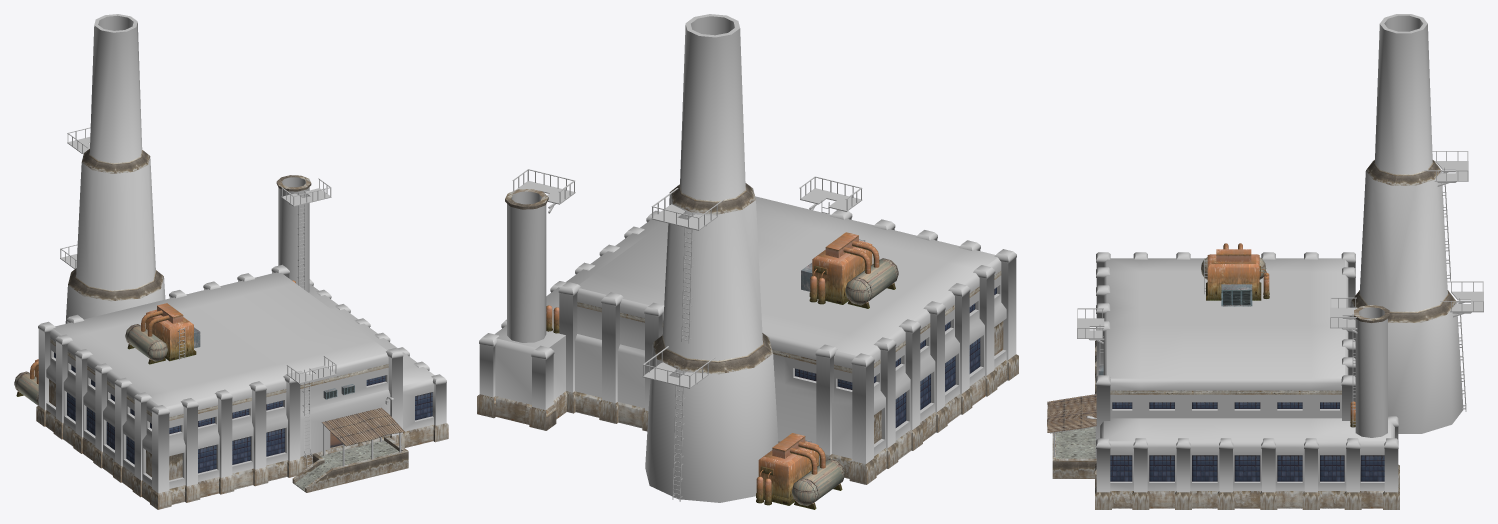
The model's file is powerplant_lod0.fbx.
The picture shows the model from 3 angles, left to right: view 1: azimuth 30°, elevation 25°; view 2: azimuth 150°, elevation 25°; view 3: azimuth 270°, elevation 25°; orthographic projection. The views are drawn at different scales.
Visible parts, largest first — view 1: Mesh Object, Mesh Object_ncl1_1, Mesh Object_ncl1_2; view 2: Mesh Object, Mesh Object_ncl1_1, Mesh Object_ncl1_2; view 3: Mesh Object, Mesh Object_ncl1_1, Mesh Object_ncl1_2.
Boxes of the visible parts, x1=… form: Mesh Object: x1=35, y1=14, x2=434, y2=504; Mesh Object_ncl1_1: x1=36, y1=264, x2=448, y2=509; Mesh Object_ncl1_2: x1=14, y1=127, x2=393, y2=467; Mesh Object: x1=495, y1=14, x2=1007, y2=505; Mesh Object_ncl1_1: x1=477, y1=210, x2=1018, y2=484; Mesh Object_ncl1_2: x1=512, y1=169, x2=898, y2=509; Mesh Object: x1=1100, y1=14, x2=1463, y2=508; Mesh Object_ncl1_1: x1=1047, y1=252, x2=1399, y2=509; Mesh Object_ncl1_2: x1=1077, y1=151, x2=1483, y2=427.
Bounding box in the file's own units: 27.69 × 32.54 × 33.32.
